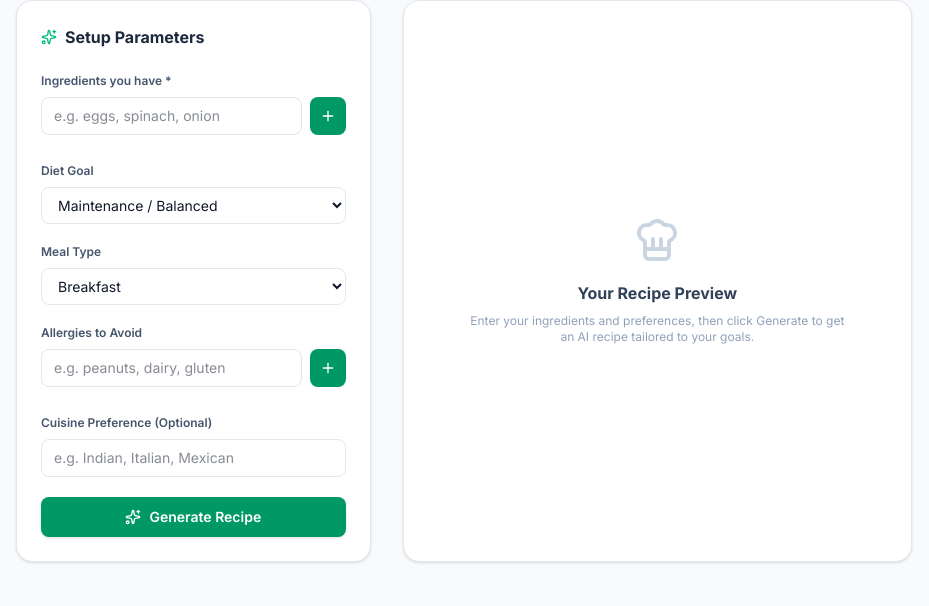
it: RecipeGenerator Form Component › submits parameters and displays the generated recipe
# Add ingredient
Type "Bread" into the field with placeholder "e.g. eggs, spinach, onion".
click(171, 116); type("Bread")  # box top-left (41, 97), bottom-right (302, 135)
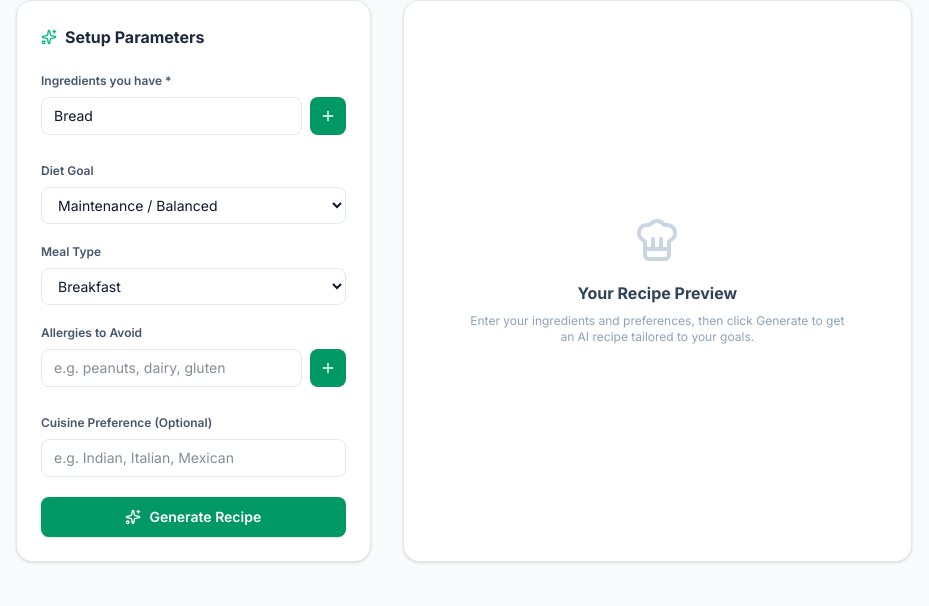
Click the button without text below "Ingredients you have *".
click(328, 116)  # box top-left (310, 97), bottom-right (346, 135)
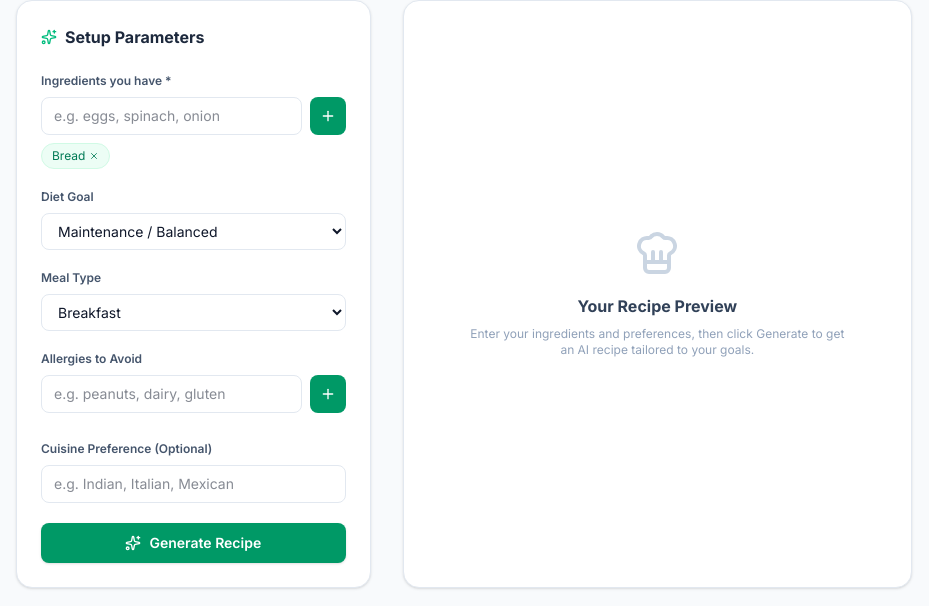
# Click Generate Recipe submit button
Click the button "Generate Recipe".
click(193, 543)  # box top-left (41, 523), bottom-right (346, 563)
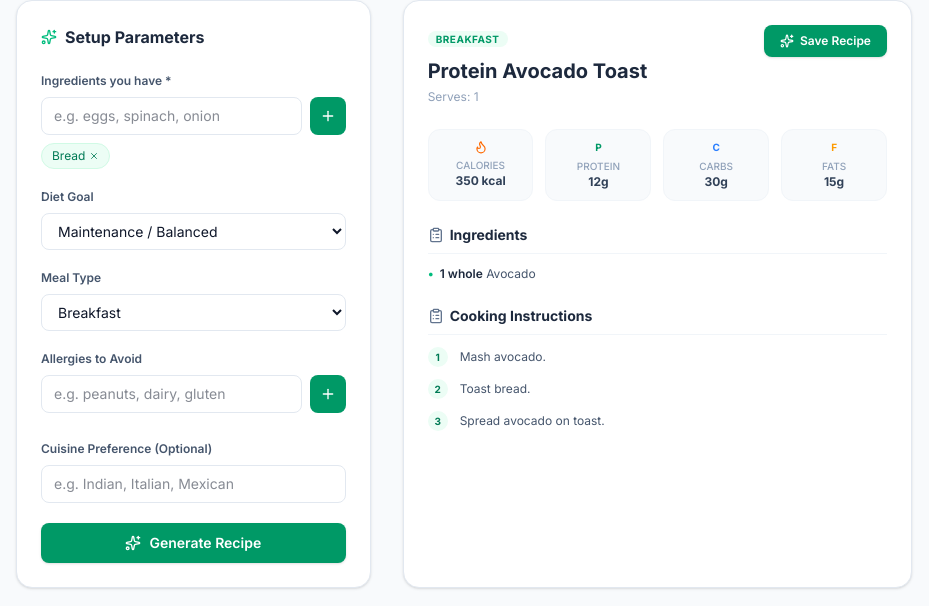
Check: the heading "Protein Avocado Toast" is shown, box top-left (428, 57), bottom-right (647, 85)
Check: the text "12g" is shown, box top-left (588, 174), bottom-right (608, 190)
Check: the text "350 kcal" is shown, box top-left (455, 173), bottom-right (506, 189)
